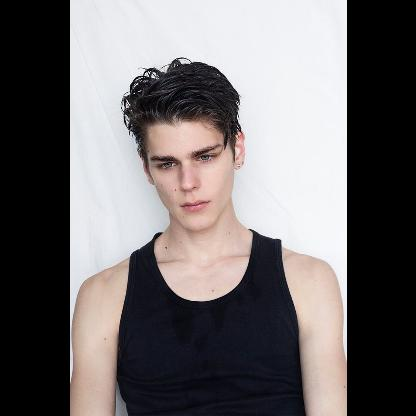Male: (139, 116, 245, 231)
